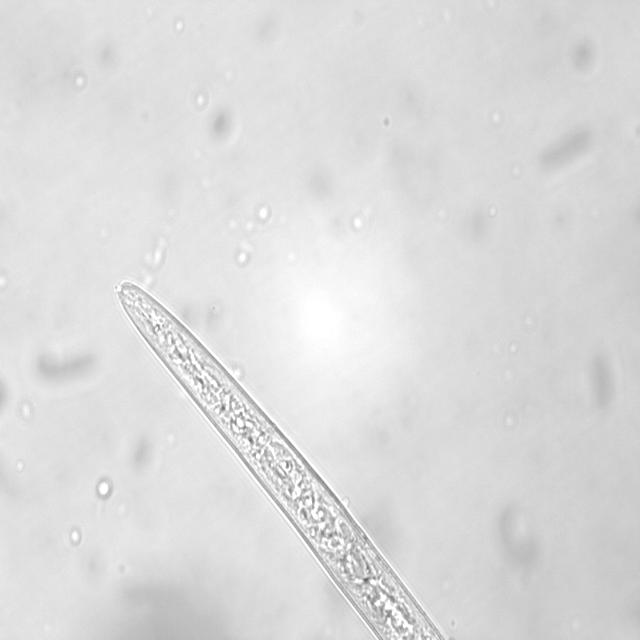Meloidogyne: (106, 277, 464, 640)
